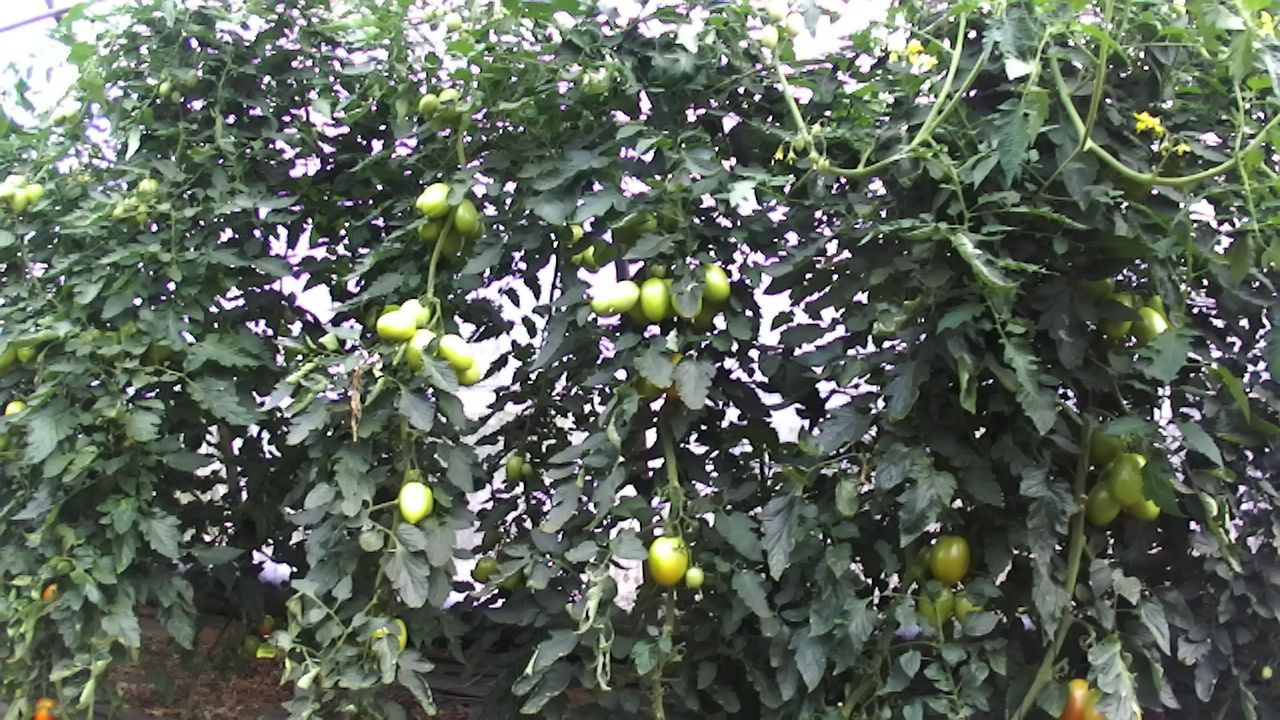tomato: (926, 532, 973, 588), (644, 531, 690, 588), (1105, 450, 1146, 509), (1081, 478, 1123, 527), (402, 324, 439, 372), (370, 305, 417, 342), (435, 331, 475, 374), (395, 479, 432, 525), (1129, 302, 1169, 342), (637, 274, 669, 324), (417, 181, 453, 222), (702, 262, 731, 304), (453, 196, 478, 236), (503, 453, 526, 484), (682, 564, 706, 589), (516, 458, 536, 480)
